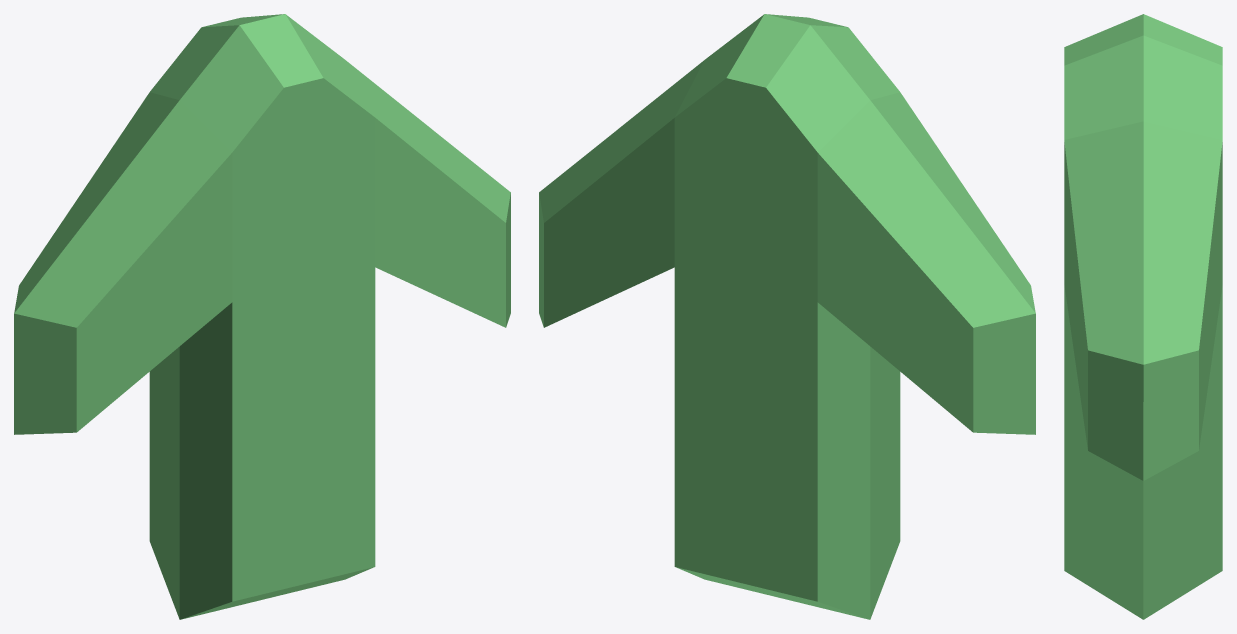
The model's file is Speed(P).fbx.
The picture shows the model from 3 angles, left to right: view 1: azimuth 30°, elevation 25°; view 2: azimuth 150°, elevation 25°; view 3: azimuth 270°, elevation 25°; orthographic projection. The views are drawn at different scales.
Visible parts, largest first — view 1: Speed(P); view 2: Speed(P); view 3: Speed(P).
Boxes of the visible parts, left/top/right/bottom form: Speed(P): left=14, top=14, right=510, bottom=619; Speed(P): left=539, top=14, right=1035, bottom=619; Speed(P): left=1064, top=14, right=1222, bottom=619.
Size of the model in its own units: 347 by 388 by 100.
